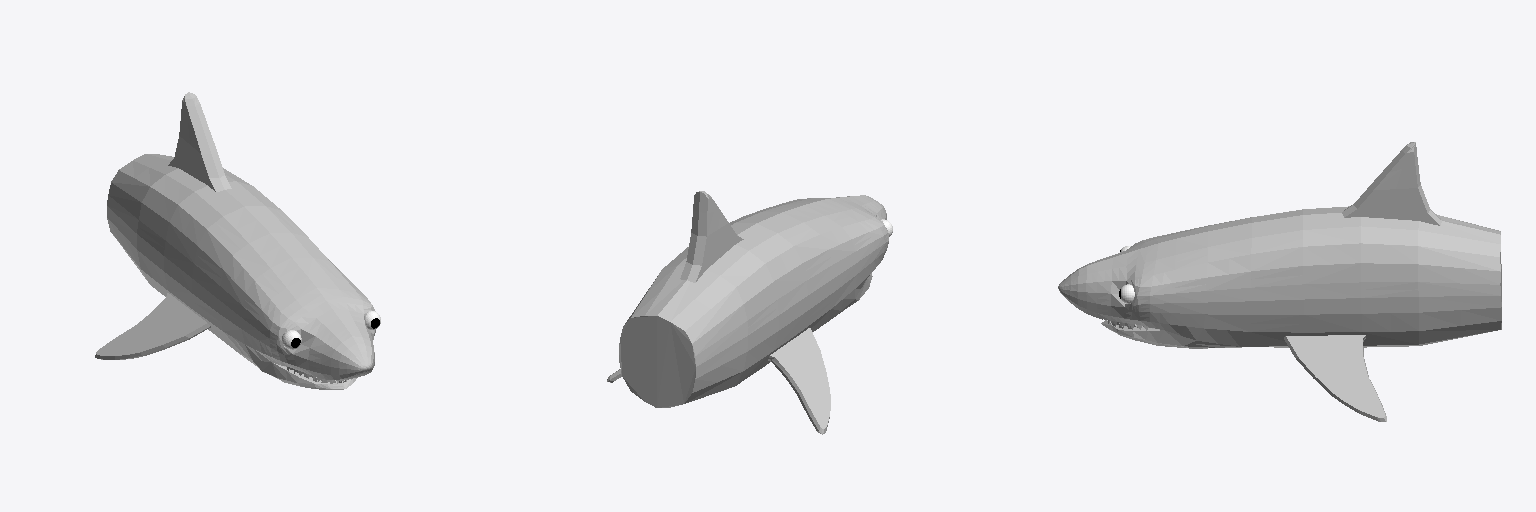
3 renders of one model, left to right at view 1: azimuth 30°, elevation 25°; view 2: azimuth 150°, elevation 25°; view 3: azimuth 270°, elevation 25°, orthographic.
Parts seen in each view (by area): view 1: 立方体; view 2: 立方体; view 3: 立方体.
Part boxes in pixels (x1,y1,x2,y2): 立方体: (95,92,380,389); 立方体: (607,191,892,434); 立方体: (1058,142,1501,421).
Size of the model in its own units: 1.57 by 1.58 by 2.79.